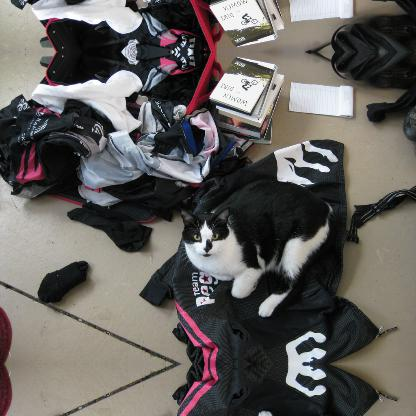Cat: (177, 181, 335, 319)
